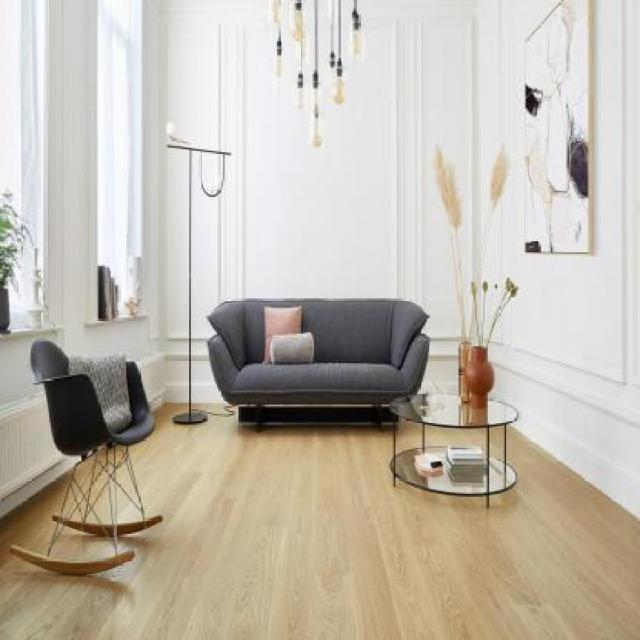Floor: (1, 403, 640, 639), (424, 424, 487, 454), (395, 417, 423, 456), (489, 425, 504, 461)
